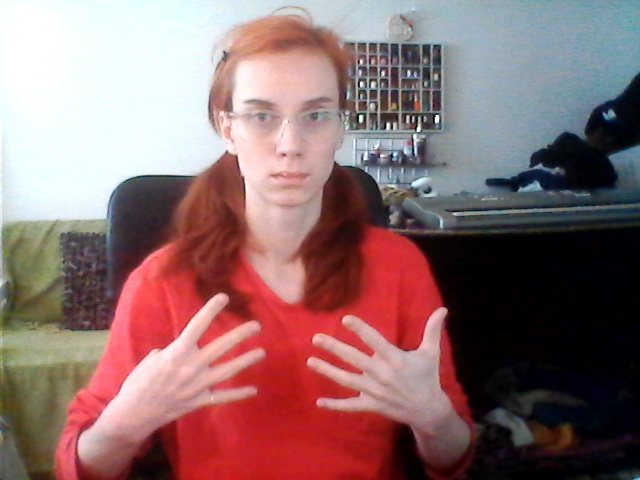devat: (126, 288, 461, 425)
